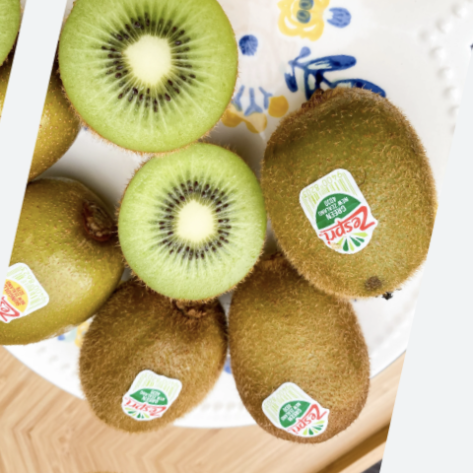kiwi: (212, 68, 468, 331), (203, 235, 395, 473), (50, 258, 250, 457)
